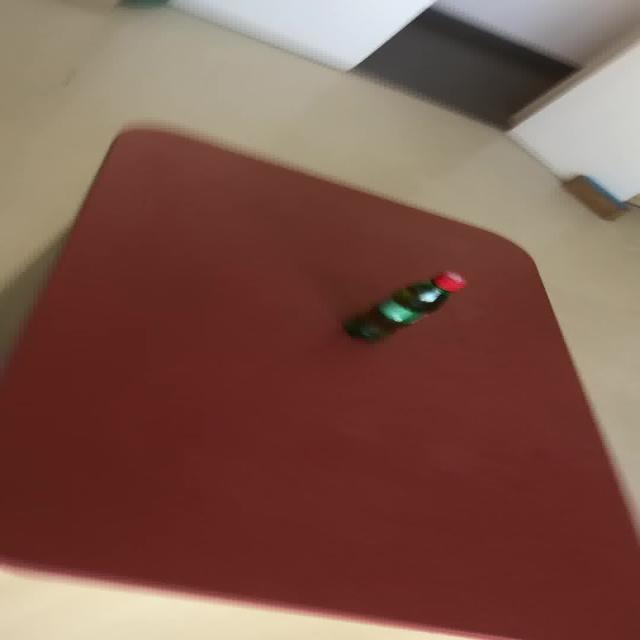guarana: (341, 269, 467, 343), (374, 269, 466, 325)
